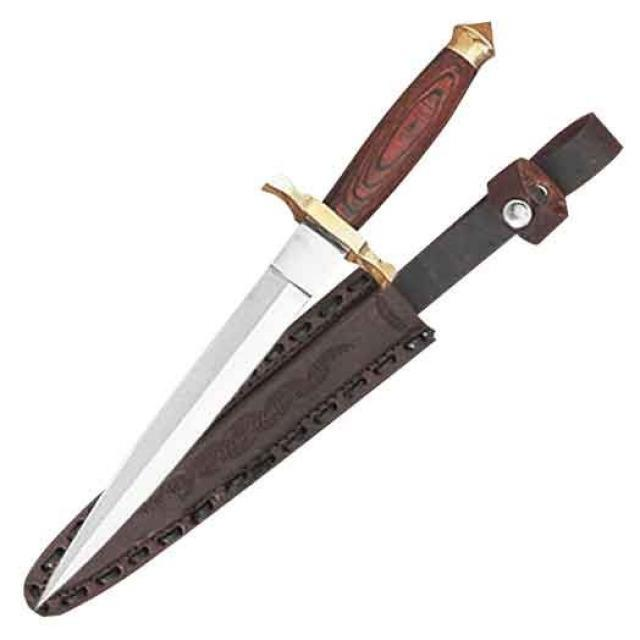short sword: (14, 16, 634, 617)
